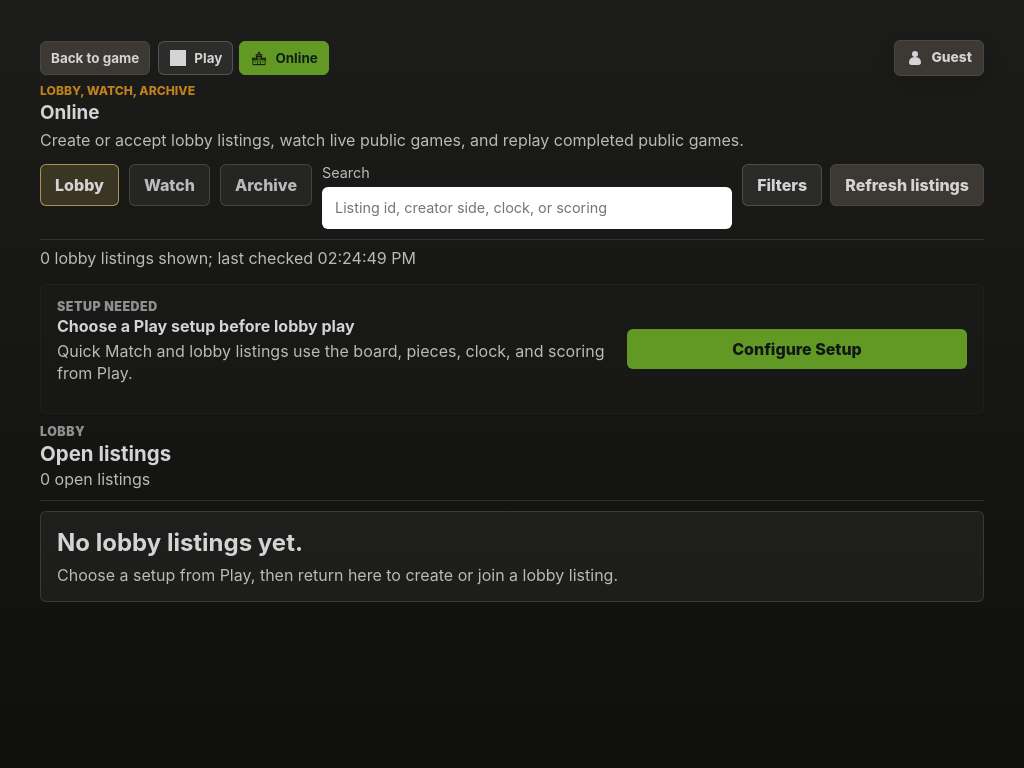
it: OnlineGameBrowser › creates an online account from the Online account dialog
The image size is (1024, 768).
Expected: the heading "No lobby listings yet." is shown, left=57, top=528, right=303, bottom=557
Click the button named "Guest account. Open account sign in" at (939, 58), box left=894, top=40, right=984, bottom=76
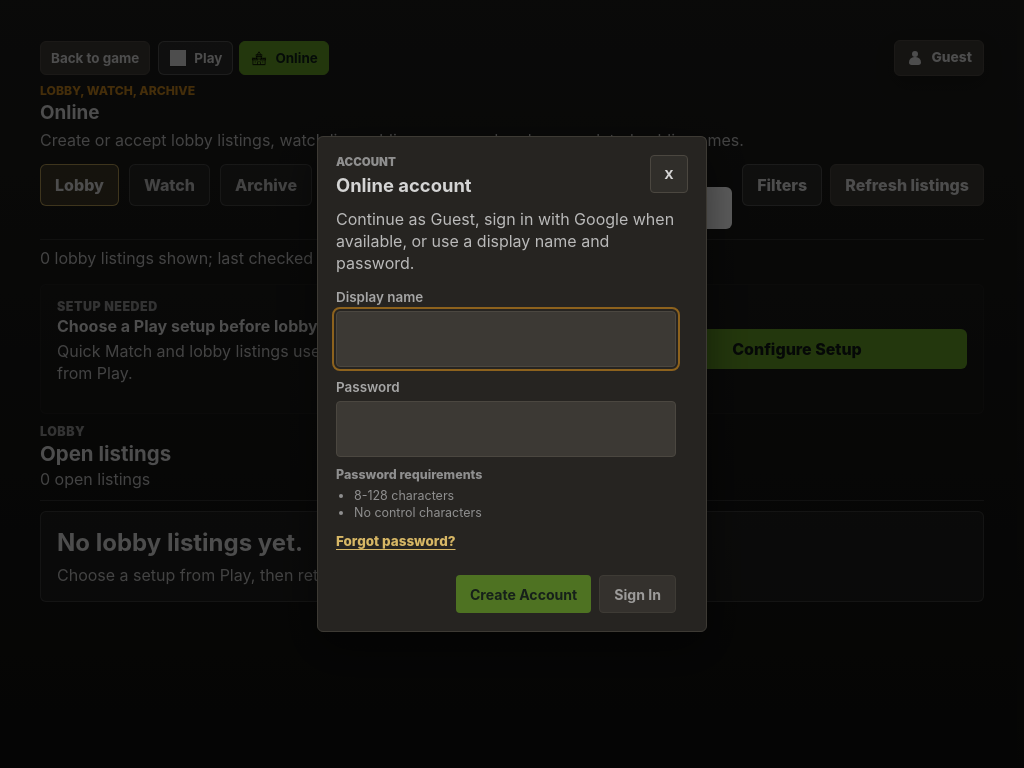
Type "Liam" into the field labelled "Display name" at (506, 339), box left=336, top=311, right=676, bottom=367
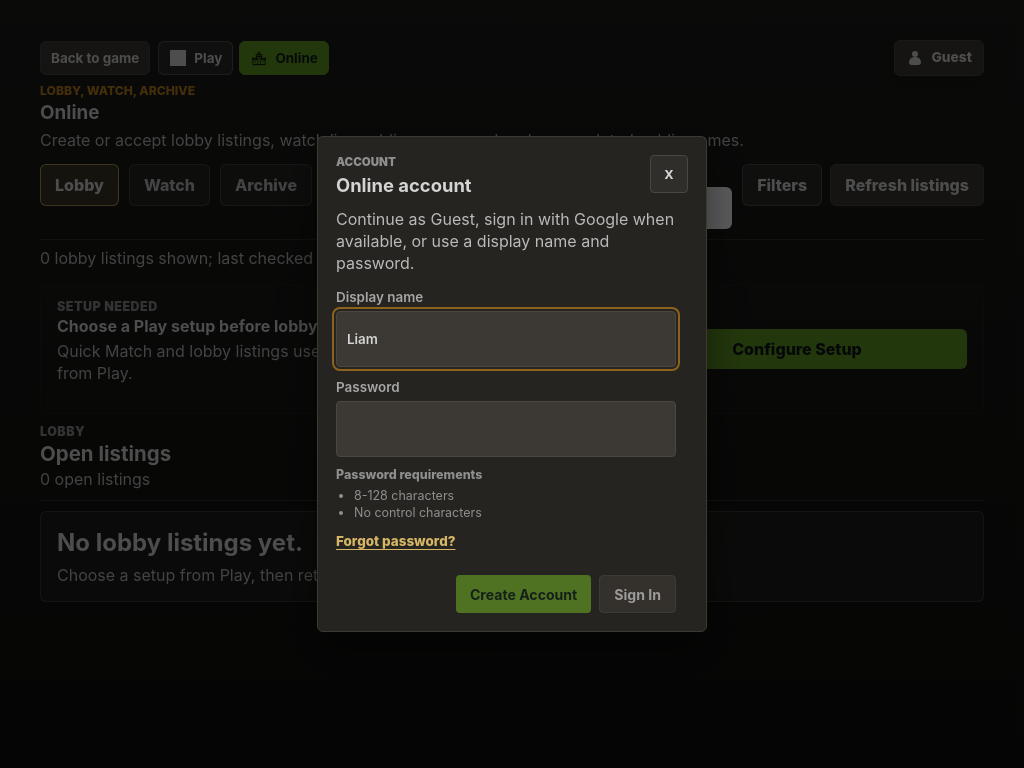
Type "account-password" into the password field labelled "Password" at (506, 429), box left=336, top=401, right=676, bottom=457
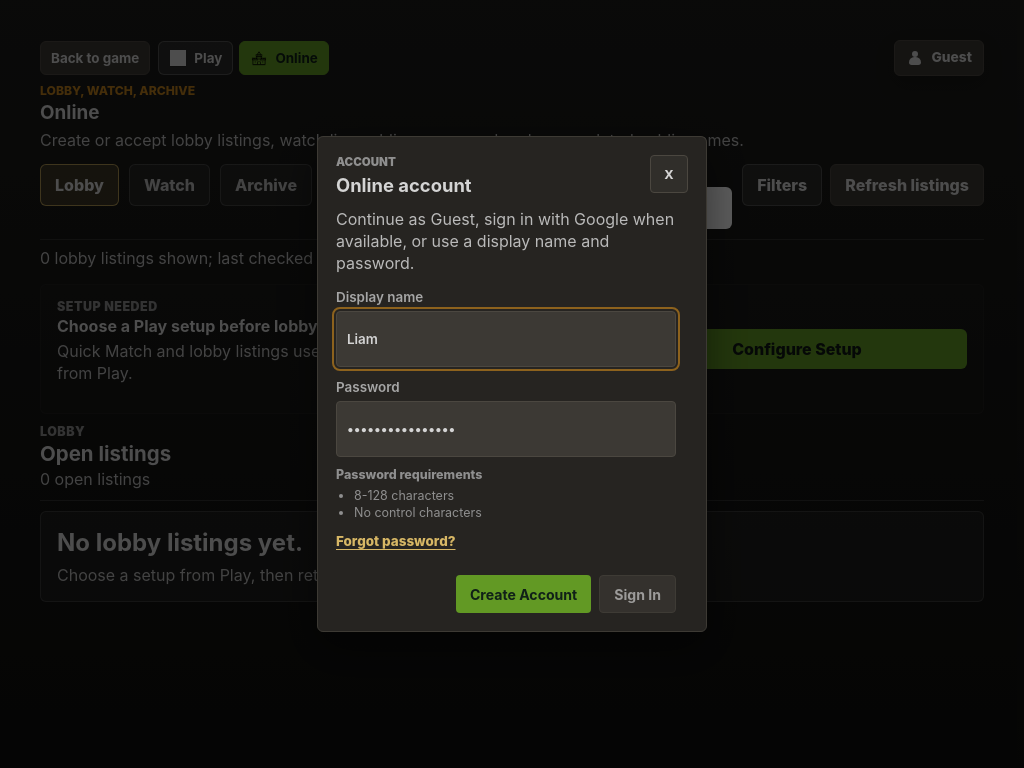
Click the button "Create Account" at (524, 594), box left=456, top=575, right=591, bottom=613
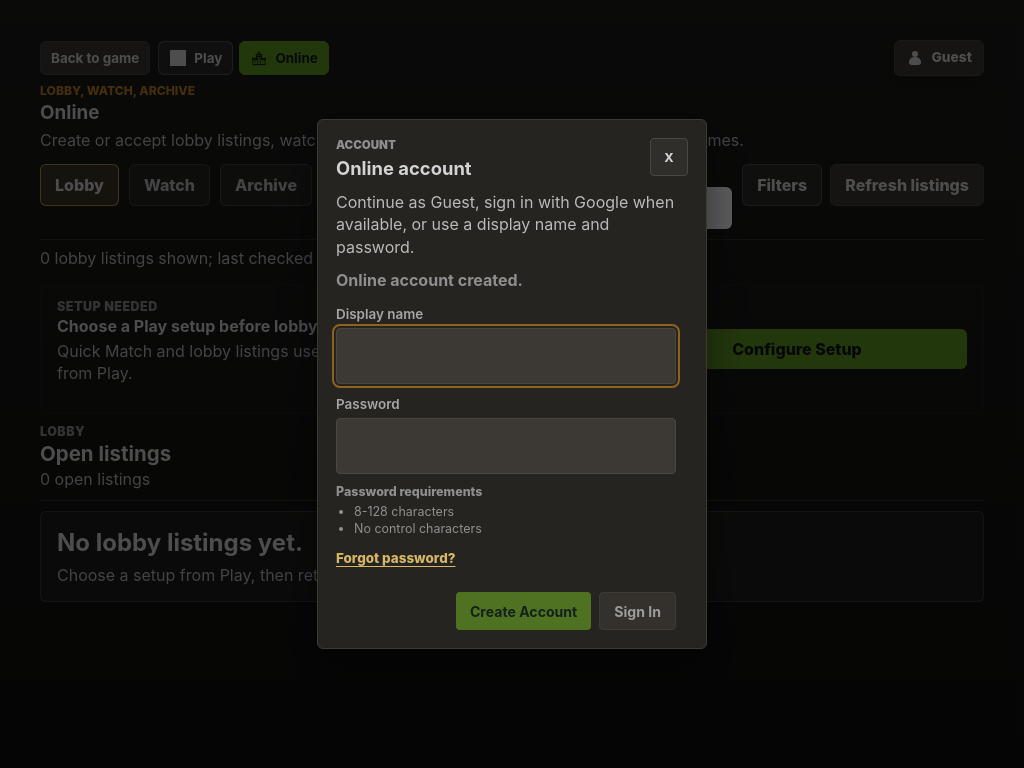
Expected: the dialog "Online account" is shown, left=317, top=119, right=707, bottom=649
Expected: the text "Online account created." is shown, left=336, top=270, right=523, bottom=290
